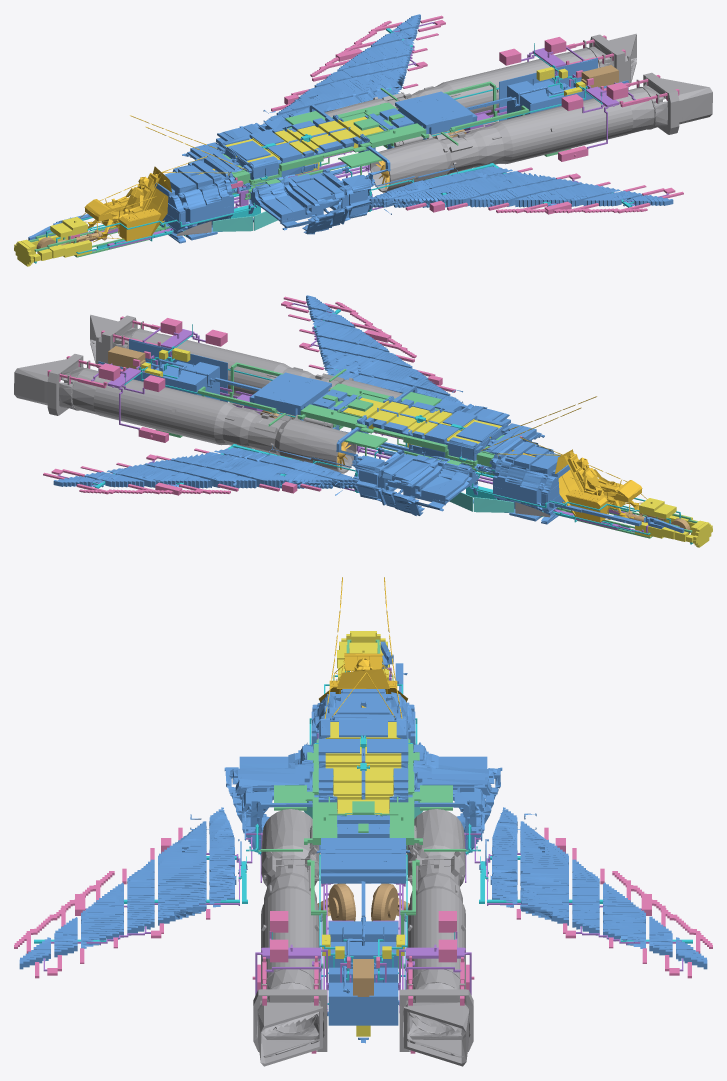
The model's file is systems.glb.
The picture shows the model from 3 angles, top to bottom: view 1: azimuth 30°, elevation 25°; view 2: azimuth 150°, elevation 25°; view 3: azimuth 270°, elevation 25°; orthographic projection. The views are drawn at different scales.
Visible parts, largest first — view 1: fuel, engines, actuators, cooling, avionics, cockpit, hydraulics, electrics, gear, ramp_ramp_mid_l; view 2: fuel, engines, actuators, cooling, avionics, cockpit, electrics, hydraulics, gear, ramp_ramp_mid_r; view 3: fuel, engines, actuators, cooling, avionics, hydraulics, gear, electrics, cockpit.
Boxes of the visible parts, left/top/right/bottom form: fuel: left=28, top=14, right=673, bottom=243; engines: left=176, top=33, right=712, bottom=235; actuators: left=68, top=15, right=683, bottom=239; cooling: left=29, top=81, right=571, bottom=257; avionics: left=14, top=67, right=585, bottom=266; cockpit: left=79, top=115, right=246, bottom=242; hydraulics: left=80, top=22, right=669, bottom=251; electrics: left=34, top=28, right=634, bottom=263; gear: left=36, top=65, right=618, bottom=253; ramp_ramp_mid_l: left=212, top=216, right=252, bottom=231; fuel: left=53, top=295, right=684, bottom=533; engines: left=14, top=314, right=550, bottom=517; actuators: left=43, top=296, right=648, bottom=516; cooling: left=155, top=362, right=697, bottom=538; avionics: left=141, top=348, right=712, bottom=547; cockpit: left=480, top=396, right=647, bottom=522; electrics: left=92, top=309, right=692, bottom=544; hydraulics: left=57, top=303, right=648, bottom=532; gear: left=108, top=346, right=690, bottom=534; ramp_ramp_mid_r: left=474, top=497, right=514, bottom=512; fuel: left=19, top=641, right=707, bottom=1043; engines: left=253, top=744, right=473, bottom=1066; actuators: left=14, top=827, right=712, bottom=1053; cooling: left=258, top=639, right=468, bottom=968; avionics: left=322, top=631, right=404, bottom=1036; hydraulics: left=43, top=667, right=683, bottom=1012; gear: left=317, top=883, right=409, bottom=996; electrics: left=34, top=648, right=692, bottom=1004; cockpit: left=319, top=577, right=407, bottom=718.
Size of the model in its own units: 17.35 by 2.92 by 11.87.
